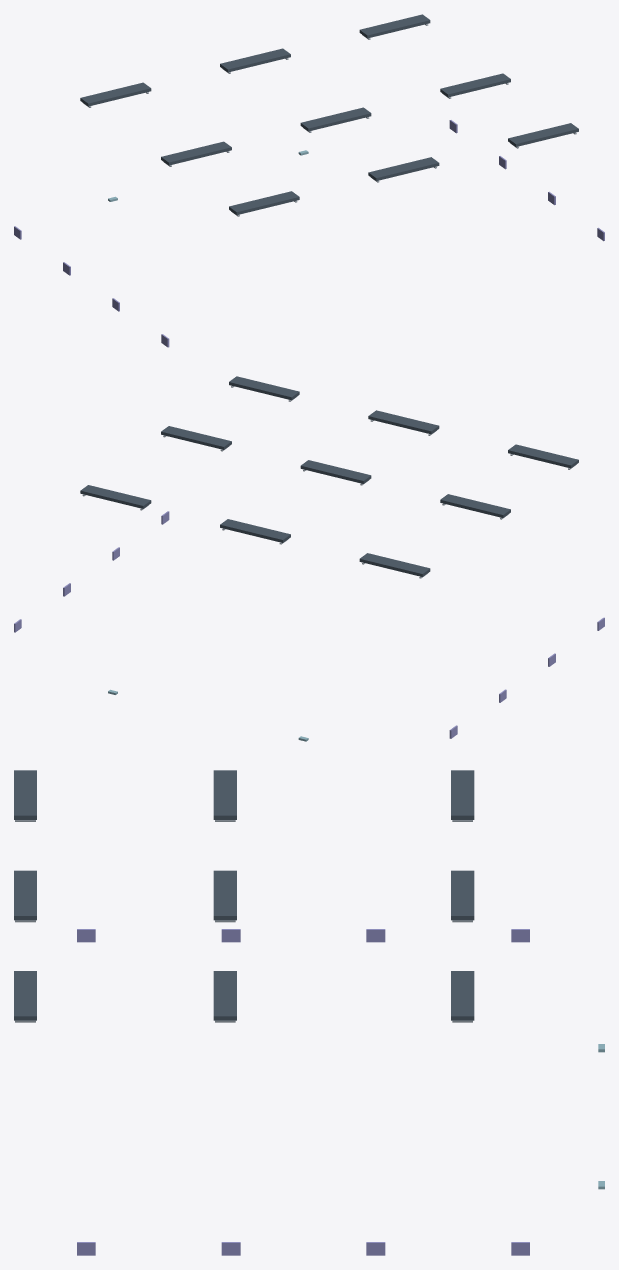
The model's file is hangar-lighting.glb.
The picture shows the model from 3 angles, top to bottom: view 1: azimuth 30°, elevation 25°; view 2: azimuth 150°, elevation 25°; view 3: azimuth 270°, elevation 25°; orthographic projection. The views are drawn at different scales.
Visible parts, largest first — view 1: 020_fixture_shell, 012_fixture_shell, 028_fixture_shell, 016_fixture_shell, 000_fixture_shell, 004_fixture_shell, 024_fixture_shell, 008_fixture_shell, 032_fixture_shell; view 2: 020_fixture_shell, 000_fixture_shell, 008_fixture_shell, 028_fixture_shell, 004_fixture_shell, 012_fixture_shell, 016_fixture_shell, 024_fixture_shell, 032_fixture_shell; view 3: 012_fixture_shell, 016_fixture_shell, 000_fixture_shell, 004_fixture_shell, 024_fixture_shell, 028_fixture_shell, 020_fixture_shell, 008_fixture_shell, 032_fixture_shell.
Boxes of the visible parts, box(x1,y1,x2,y2) form: 020_fixture_shell: box(368, 157, 439, 180); 012_fixture_shell: box(220, 48, 290, 72); 028_fixture_shell: box(440, 73, 510, 97); 016_fixture_shell: box(300, 107, 371, 131); 000_fixture_shell: box(80, 82, 151, 106); 004_fixture_shell: box(161, 141, 231, 165); 024_fixture_shell: box(359, 14, 430, 38); 008_fixture_shell: box(229, 191, 299, 214); 032_fixture_shell: box(508, 123, 578, 146); 020_fixture_shell: box(368, 410, 439, 434); 000_fixture_shell: box(359, 553, 430, 576); 008_fixture_shell: box(508, 444, 578, 468); 028_fixture_shell: box(161, 426, 231, 449); 004_fixture_shell: box(440, 494, 510, 517); 012_fixture_shell: box(220, 519, 290, 542); 016_fixture_shell: box(300, 460, 371, 483); 024_fixture_shell: box(80, 485, 151, 508); 032_fixture_shell: box(229, 376, 299, 400); 012_fixture_shell: box(451, 870, 474, 920); 016_fixture_shell: box(213, 870, 236, 920); 000_fixture_shell: box(451, 770, 474, 819); 004_fixture_shell: box(213, 770, 236, 819); 024_fixture_shell: box(451, 971, 474, 1020); 028_fixture_shell: box(213, 971, 236, 1020); 020_fixture_shell: box(14, 870, 36, 920); 008_fixture_shell: box(14, 770, 36, 819); 032_fixture_shell: box(14, 971, 36, 1020).
Size of the model in its own units: 25.68 by 8.57 by 20.41.
